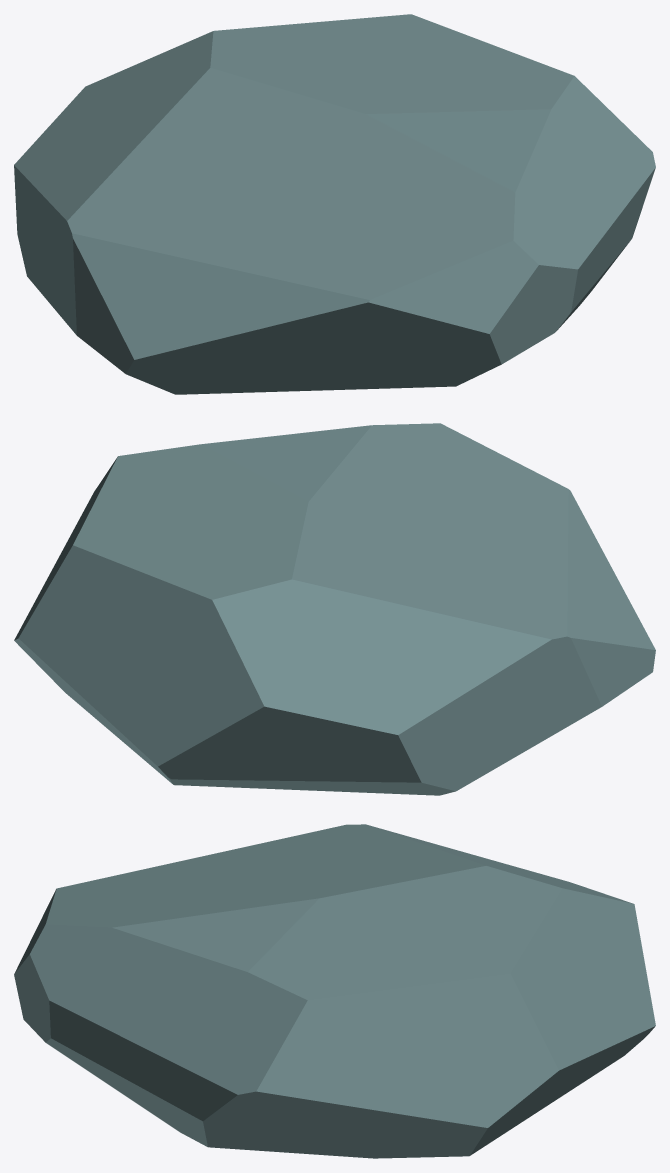
Rendered from brigesRock_Type2_03_mesh_001.fbx.
3 renders of one model, top to bottom at view 1: azimuth 30°, elevation 25°; view 2: azimuth 150°, elevation 25°; view 3: azimuth 270°, elevation 25°, orthographic. The views are drawn at different scales.
Parts seen in each view (by area): view 1: Rock Type2 03 mesh.001; view 2: Rock Type2 03 mesh.001; view 3: Rock Type2 03 mesh.001.
Boxes of the visible parts, x1,y1,x2,y2 form: Rock Type2 03 mesh.001: [14, 14, 655, 394]; Rock Type2 03 mesh.001: [14, 423, 655, 795]; Rock Type2 03 mesh.001: [14, 824, 655, 1158].
Bounding box in the file's own units: 123 × 40.55 × 129.
